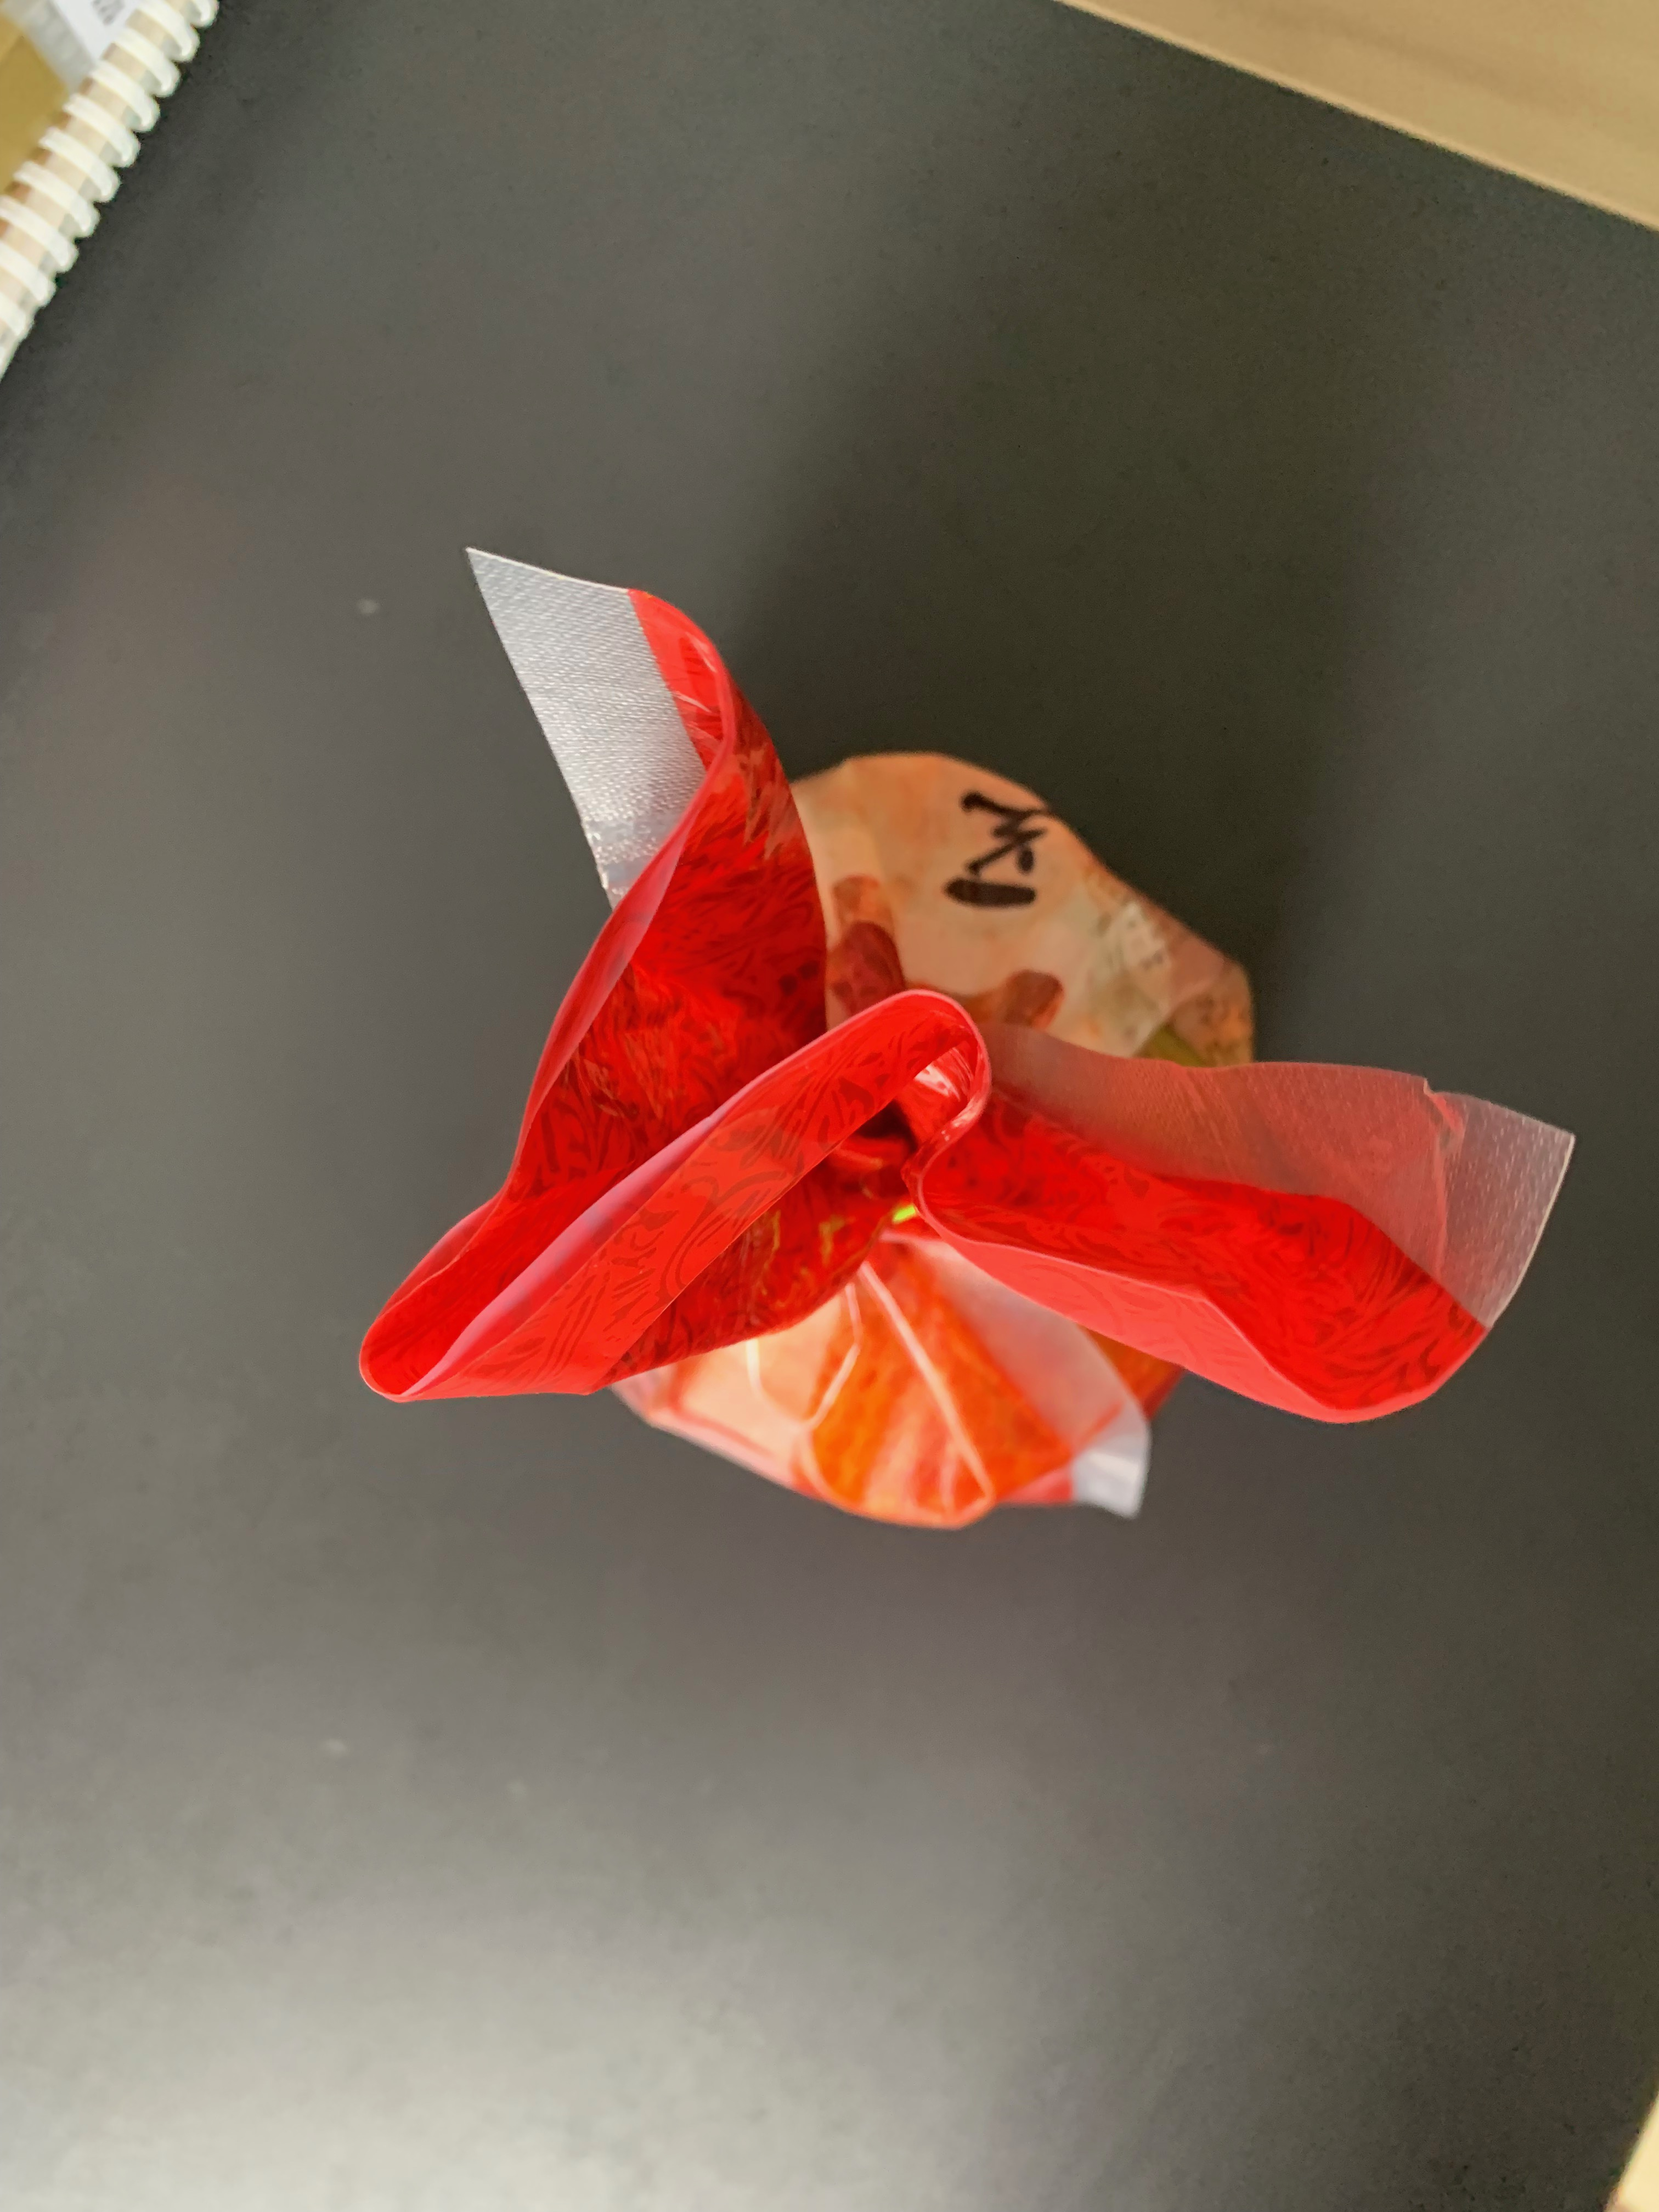kimchi: (357, 742, 1495, 1522)
